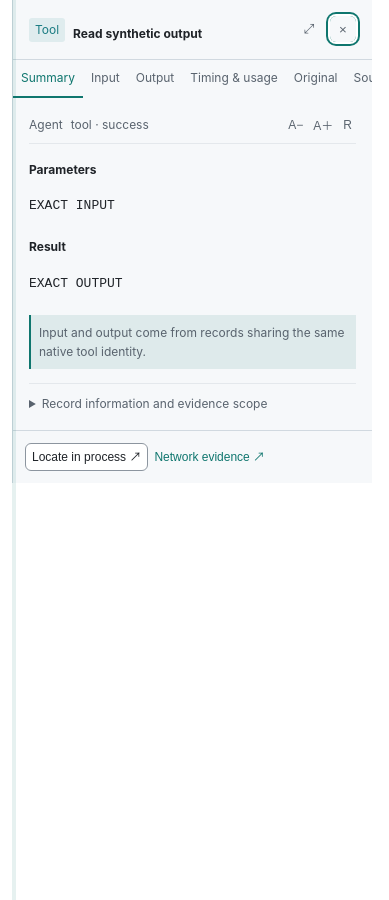
Test: opens selected tool parameters and result immediately from their exact records and reuses those bodies across tabs
expect the tab "Summary" is shown: met, box [13,60,83,98]
Click the tab "Input": (105, 79) [83,60,128,98]
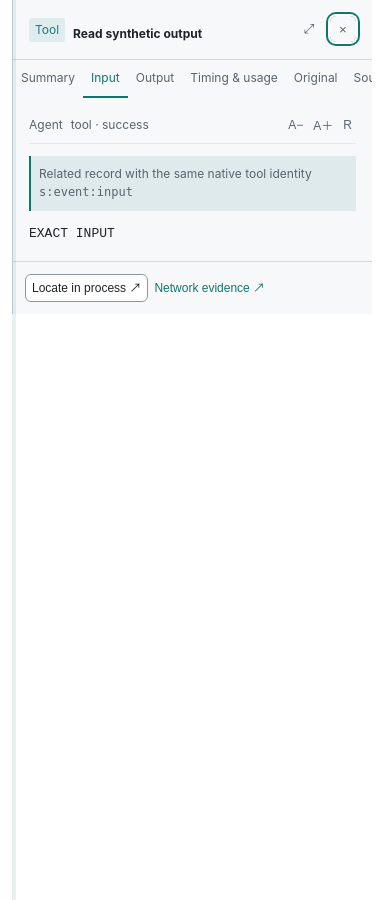
expect the text "EXACT INPUT" is shown: met, box [29,226,115,241]
Click the tab "Output": (155, 79) [128,60,182,98]
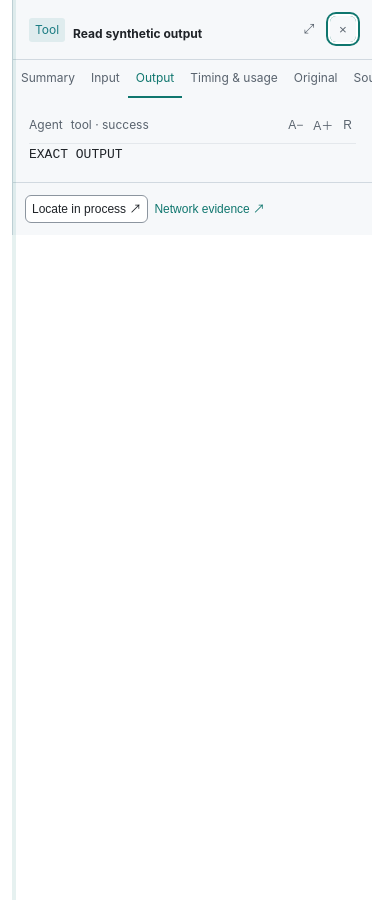
expect the text "EXACT OUTPUT" is shown: met, box [29,147,123,162]
Click the tab "Input": (105, 79) [83,60,128,98]
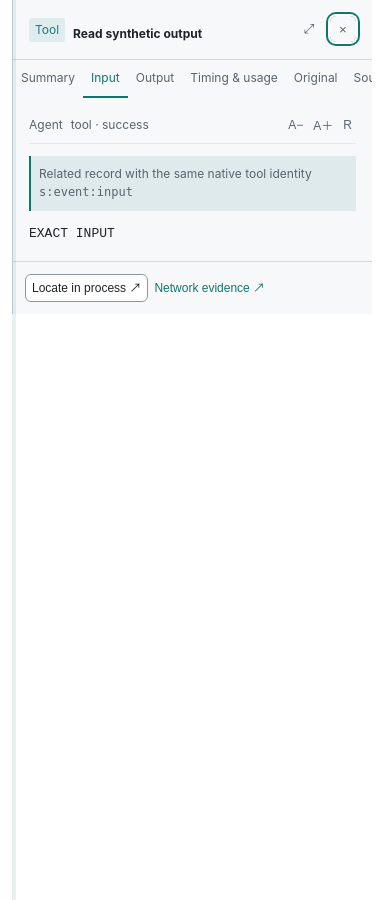
Click the tab "Original": (316, 79) [286,60,346,98]
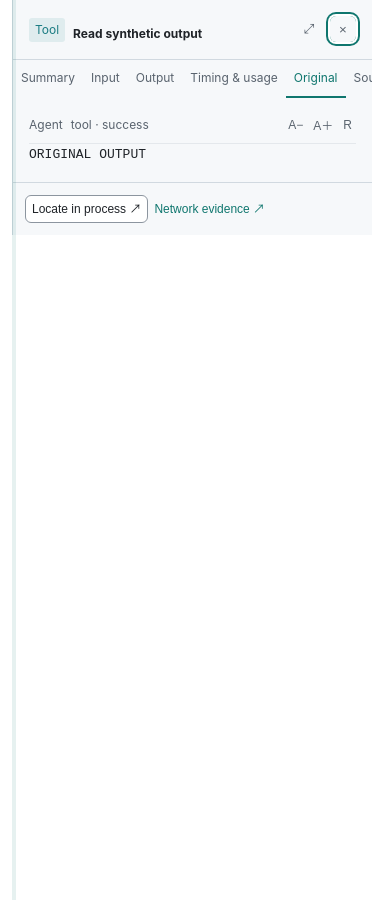
expect the text "ORIGINAL OUTPUT" is shown: met, box [29,147,146,162]
